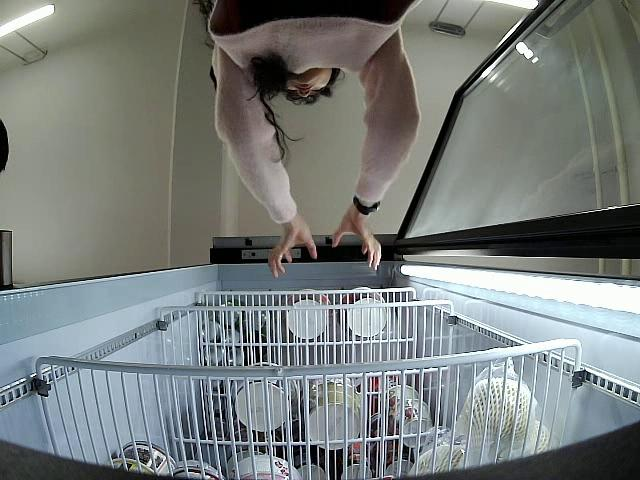00_hand: (332, 209, 381, 271), (267, 221, 318, 276)
